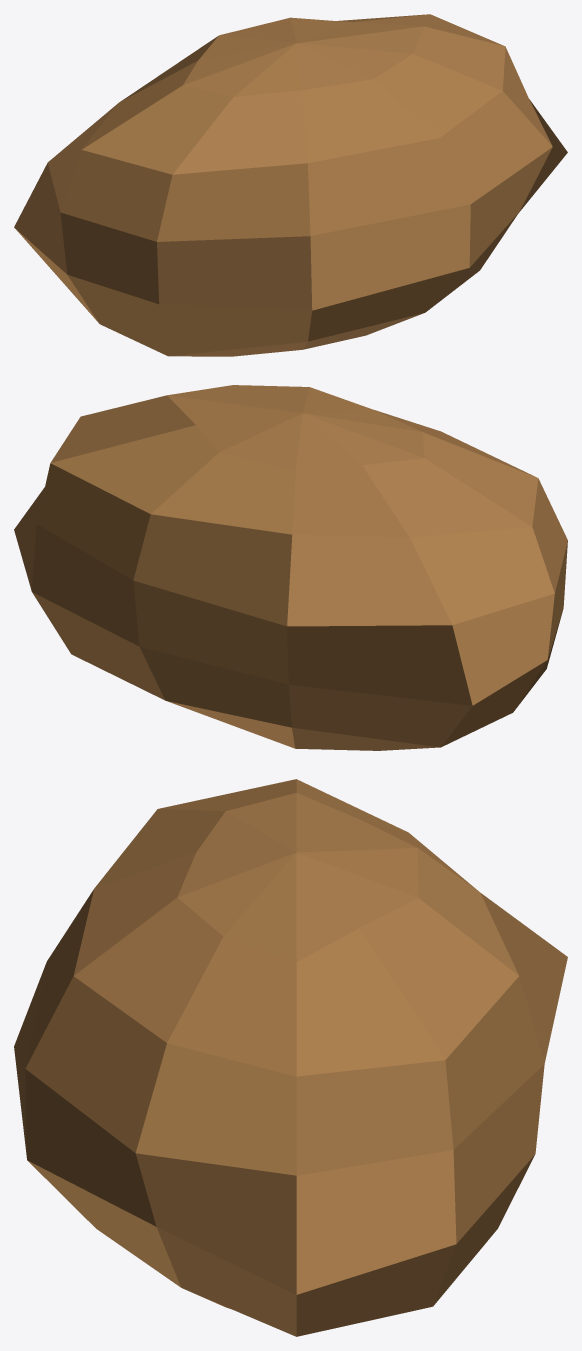
File: Potato.obj
3 renders of one model, top to bottom at view 1: azimuth 30°, elevation 25°; view 2: azimuth 150°, elevation 25°; view 3: azimuth 270°, elevation 25°, orthographic. The views are drawn at different scales.
Visible parts, largest first — view 1: Potato; view 2: Potato; view 3: Potato.
Part boxes in pixels (box(x1,y1,x2,y2)): Potato: box(14, 14, 567, 356); Potato: box(14, 385, 567, 750); Potato: box(14, 779, 567, 1336).
Size of the model in its own units: 0.4443 by 0.24 by 0.292.
